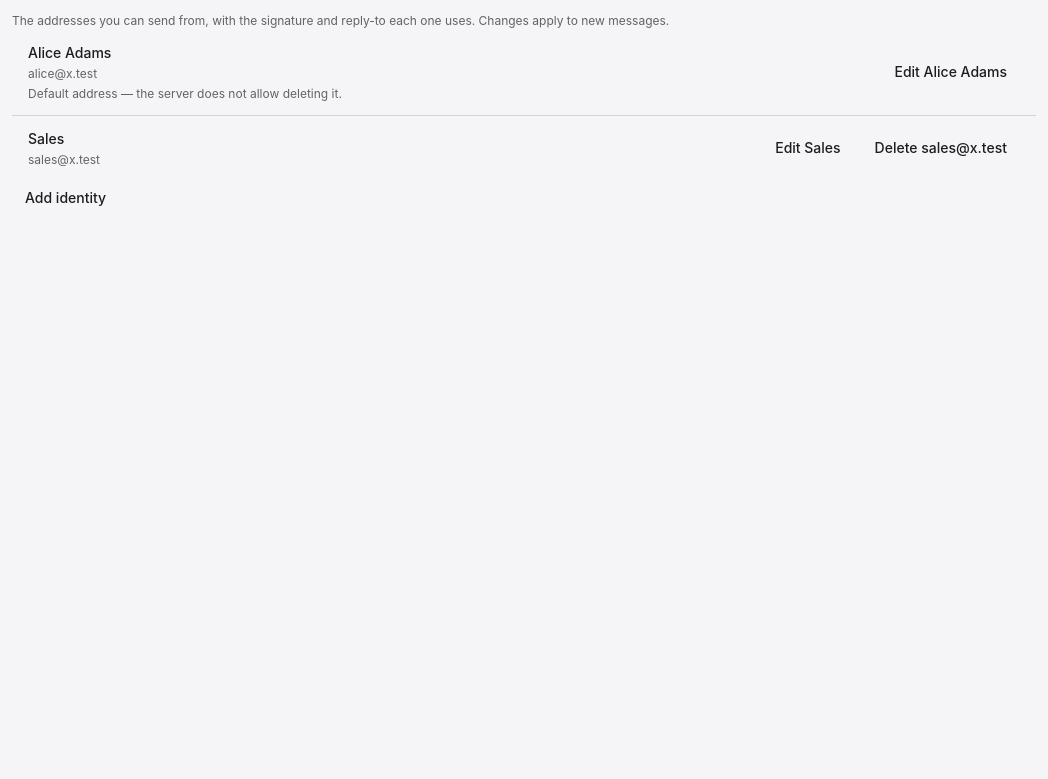
Test: the identity editor reports unsaved input › claims nothing until something is actually changed
This screenshot has width=1048, height=779.
Click the button "Edit Alice Adams": click(951, 72) [882,56,1020,90]
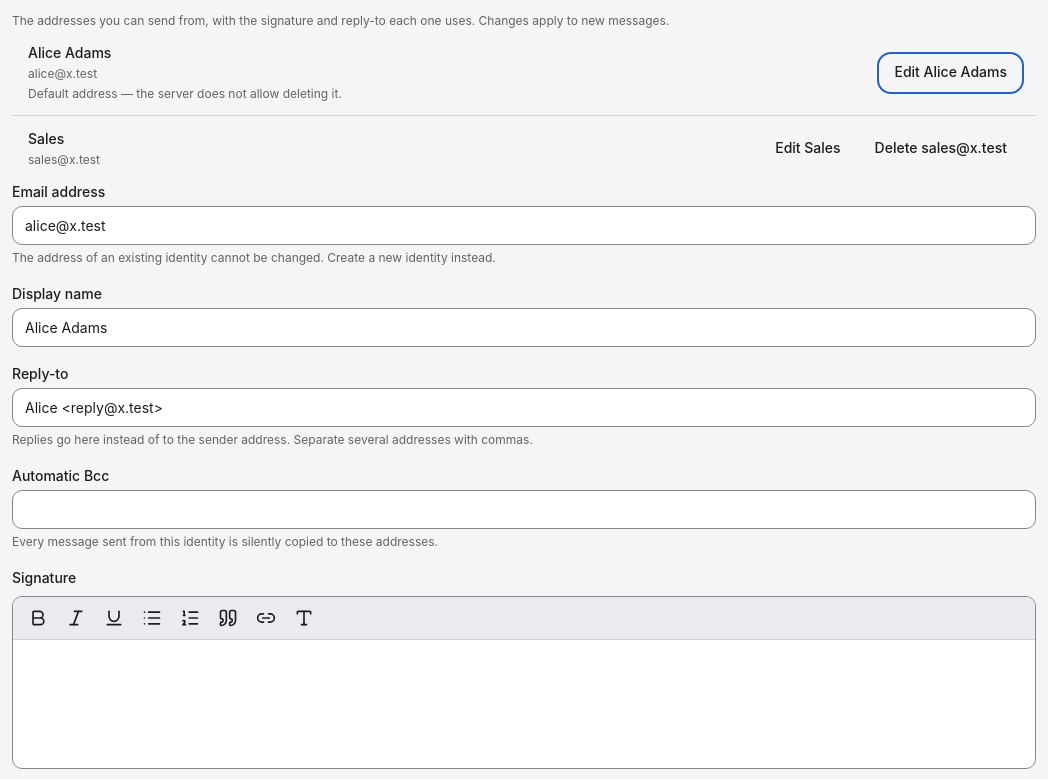
Expected: the button named "Bold" is enabled, [21,601,55,635]
